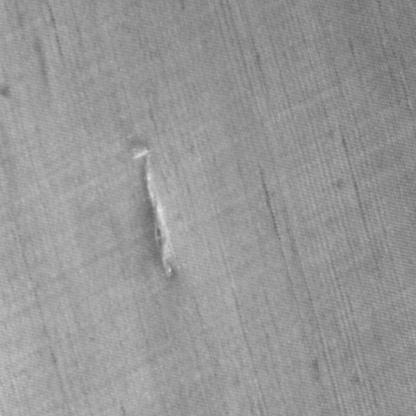hole: (128, 140, 180, 288)
